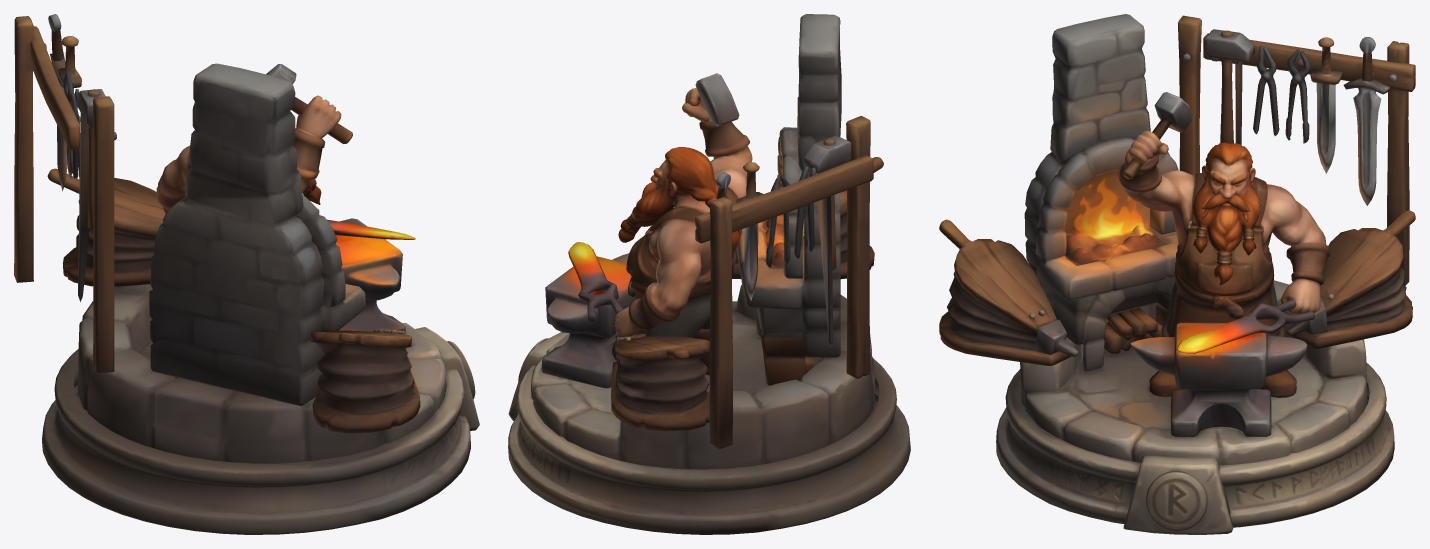
File: 22-blacksmith.glb
3 views of the same model, side by side, from view 1: azimuth 30°, elevation 25°; view 2: azimuth 150°, elevation 25°; view 3: azimuth 270°, elevation 25° (orthographic). The views are drawn at different scales.
Parts seen in each view (by area): view 1: tripo_node_b22ac046-8d9f-44a0-8ac7-9005940c8d98; view 2: tripo_node_b22ac046-8d9f-44a0-8ac7-9005940c8d98; view 3: tripo_node_b22ac046-8d9f-44a0-8ac7-9005940c8d98.
Boxes of the visible parts, left/top/right/bottom form: tripo_node_b22ac046-8d9f-44a0-8ac7-9005940c8d98: left=14, top=14, right=479, bottom=534; tripo_node_b22ac046-8d9f-44a0-8ac7-9005940c8d98: left=508, top=14, right=910, bottom=534; tripo_node_b22ac046-8d9f-44a0-8ac7-9005940c8d98: left=939, top=14, right=1415, bottom=534.
Bounding box in the file's own units: 0.8647 × 0.9067 × 0.9995.
Materials: 1 (1 with a texture image).
